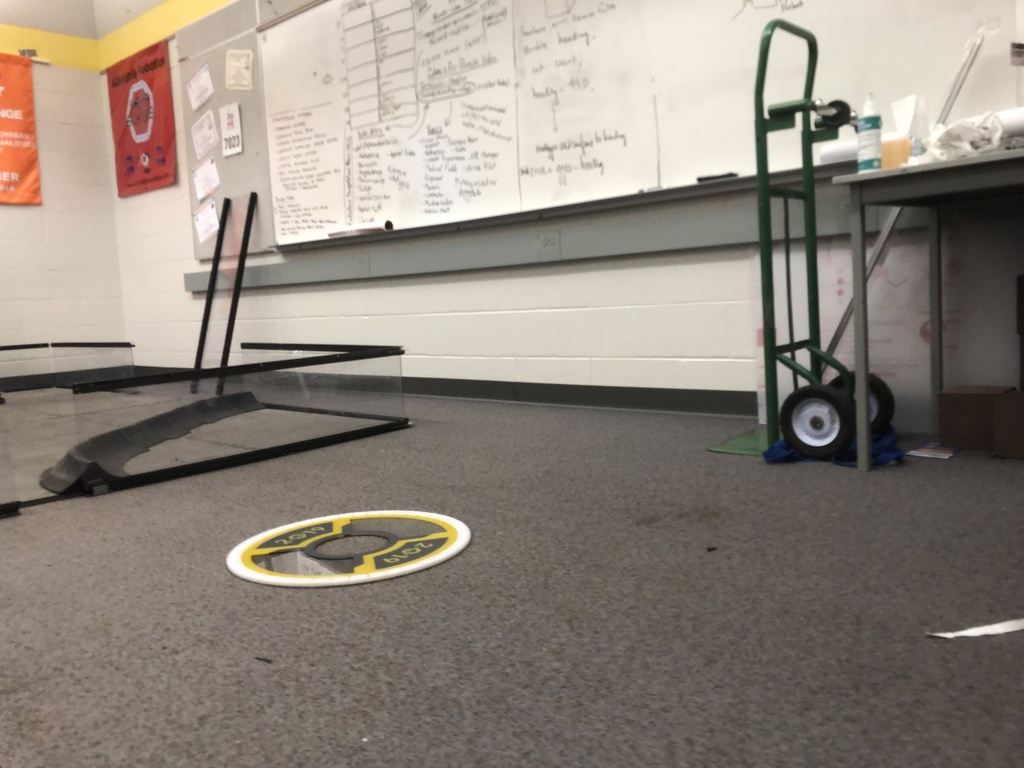hatch_panel: (205, 497, 487, 593)
